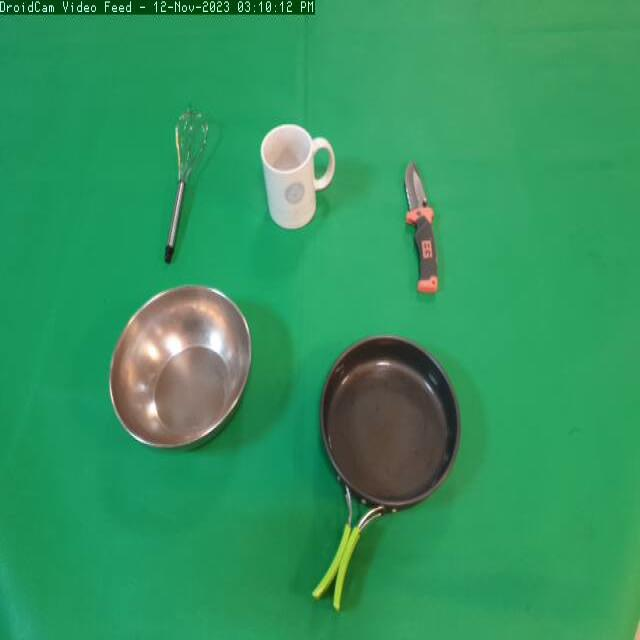bowl: (105, 281, 260, 462)
cup: (257, 120, 336, 238)
knife: (396, 154, 451, 302)
pan: (300, 330, 474, 620)
whisk: (156, 104, 224, 272)
